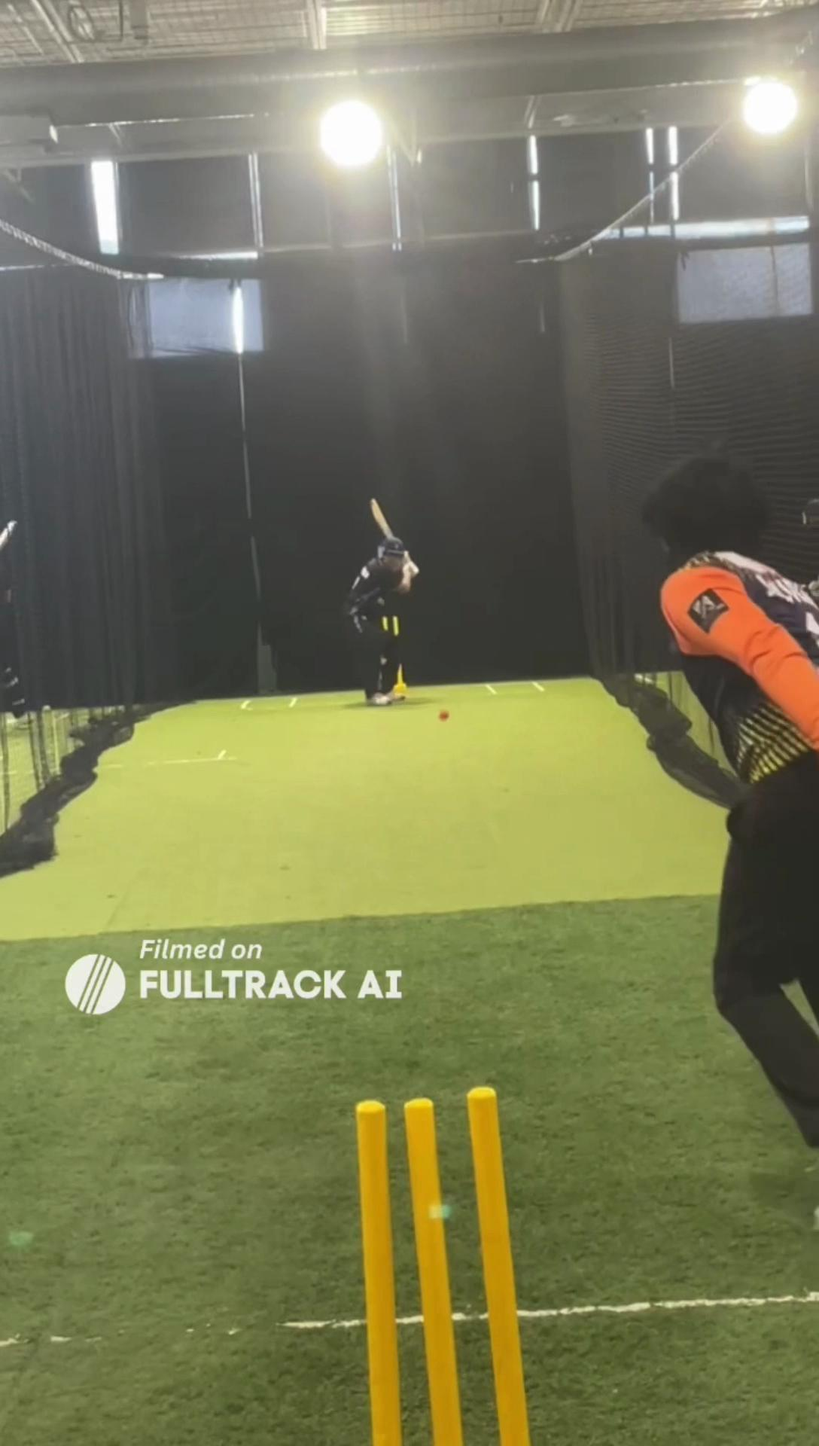ball: (434, 705, 454, 724)
